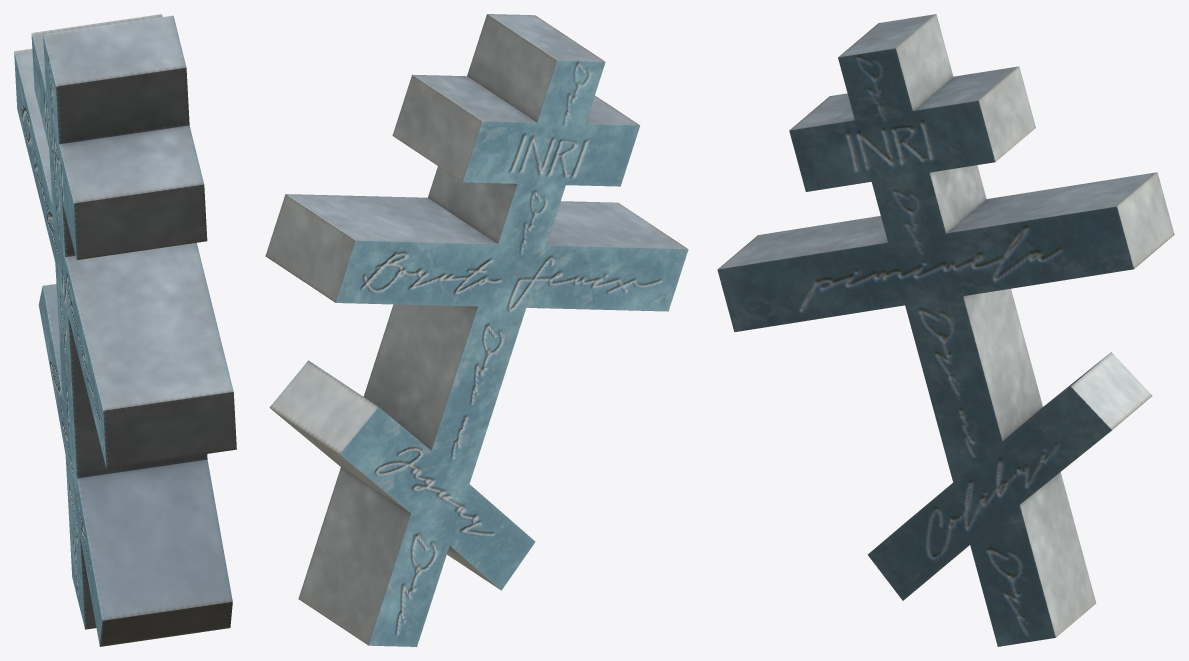
3 views of the same model, side by side, from view 1: azimuth 30°, elevation 25°; view 2: azimuth 150°, elevation 25°; view 3: azimuth 270°, elevation 25° (orthographic). The views are drawn at different scales.
Visible parts, largest first — view 1: Cruz_Orto_Cube.011; view 2: Cruz_Orto_Cube.011; view 3: Cruz_Orto_Cube.011.
Boxes of the visible parts, x1,y1,x2,y2 form: Cruz_Orto_Cube.011: (14,14,236,646); Cruz_Orto_Cube.011: (265,14,688,646); Cruz_Orto_Cube.011: (717,14,1174,646).
Size of the model in its own units: 1.16 by 2.69 by 1.97.
